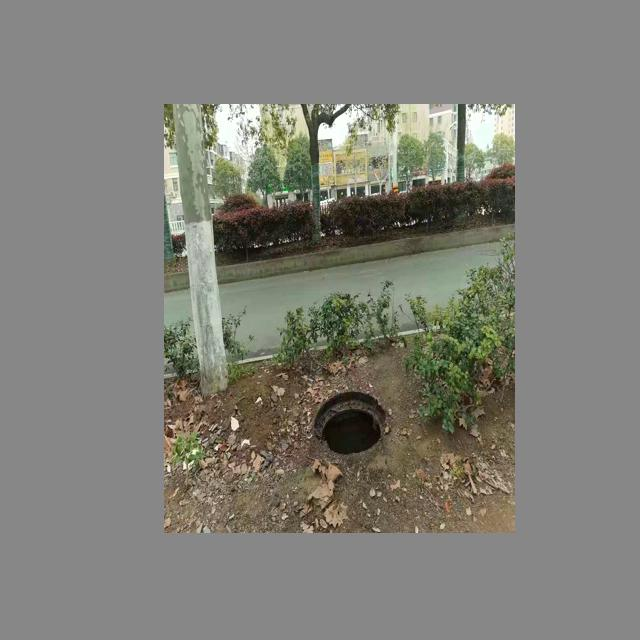lose: (312, 390, 386, 457)
